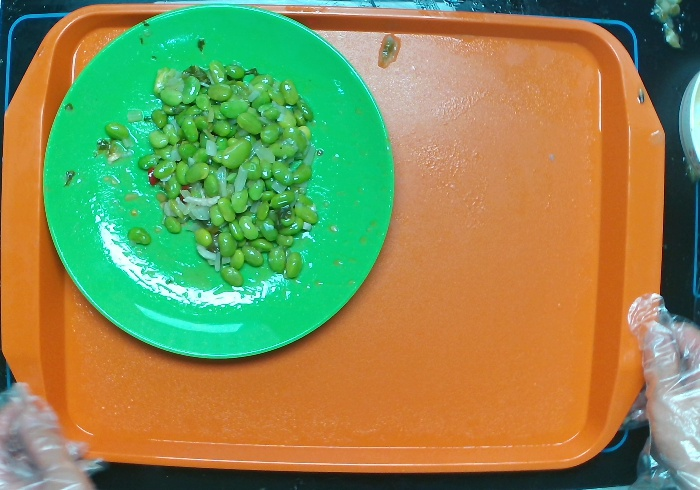HZYJPL-Lv_Se_Yuan_Pan: (41, 2, 396, 361)
